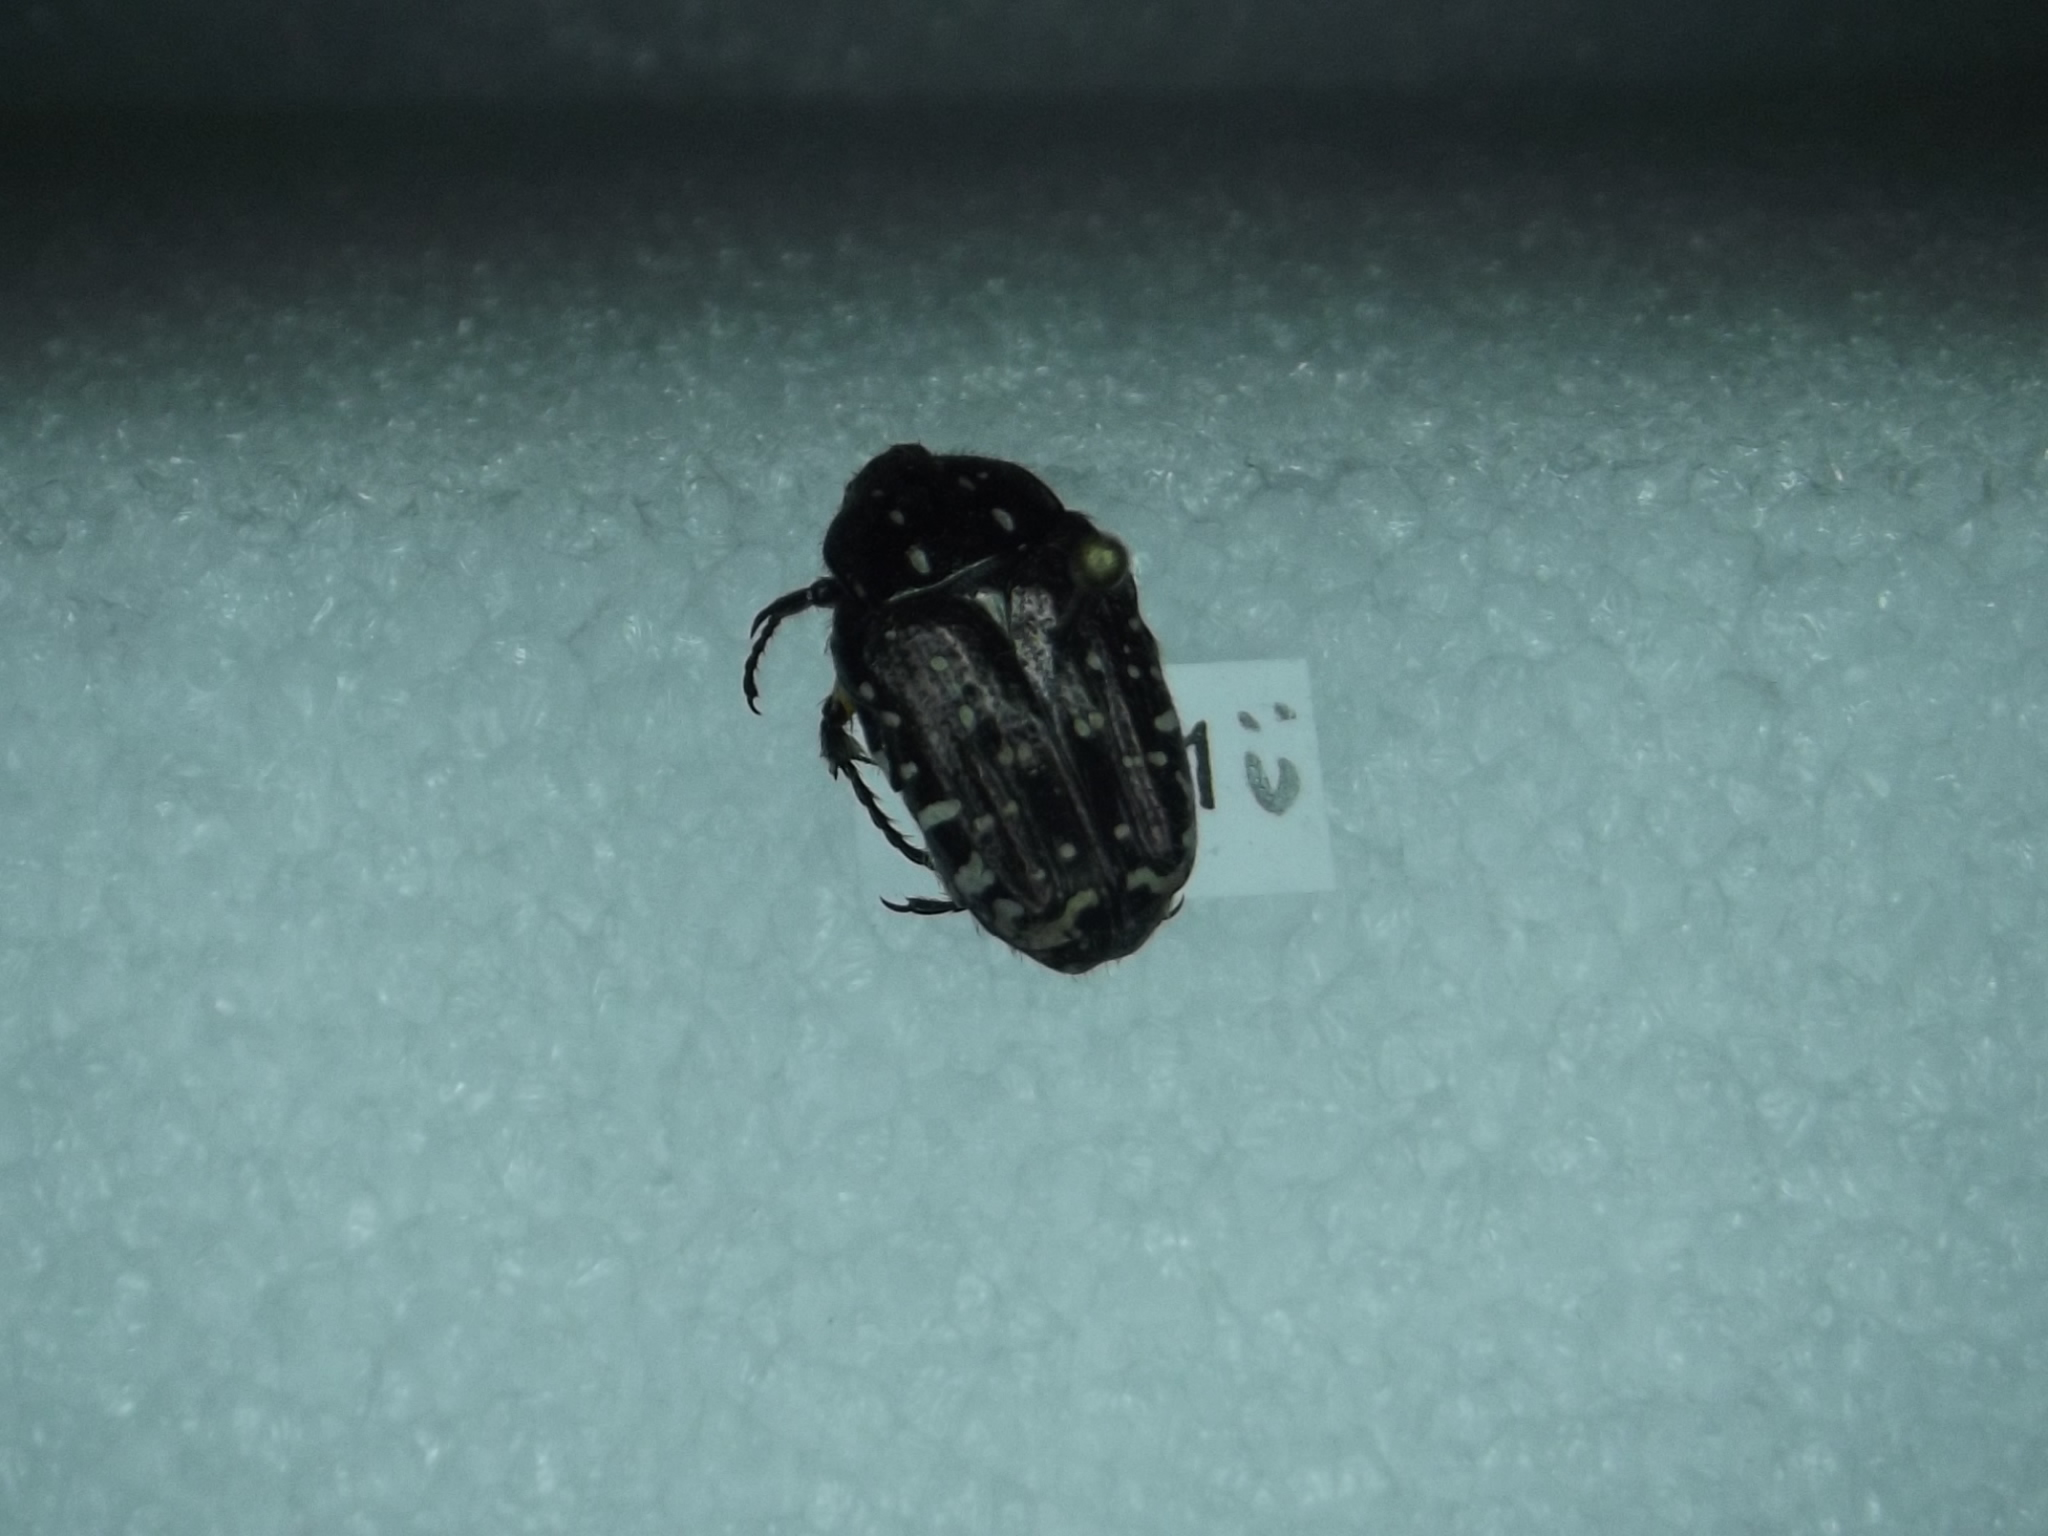Oxythyrea_funesta: (742, 410, 1203, 1000)
